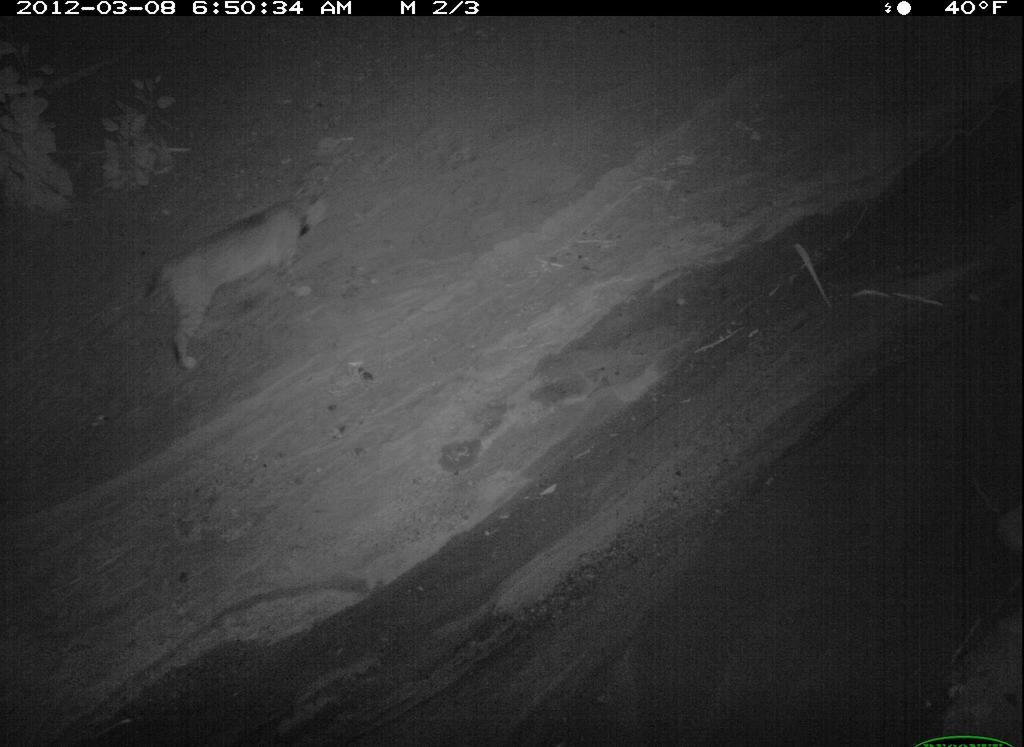bobcat: (276, 344, 671, 747)
